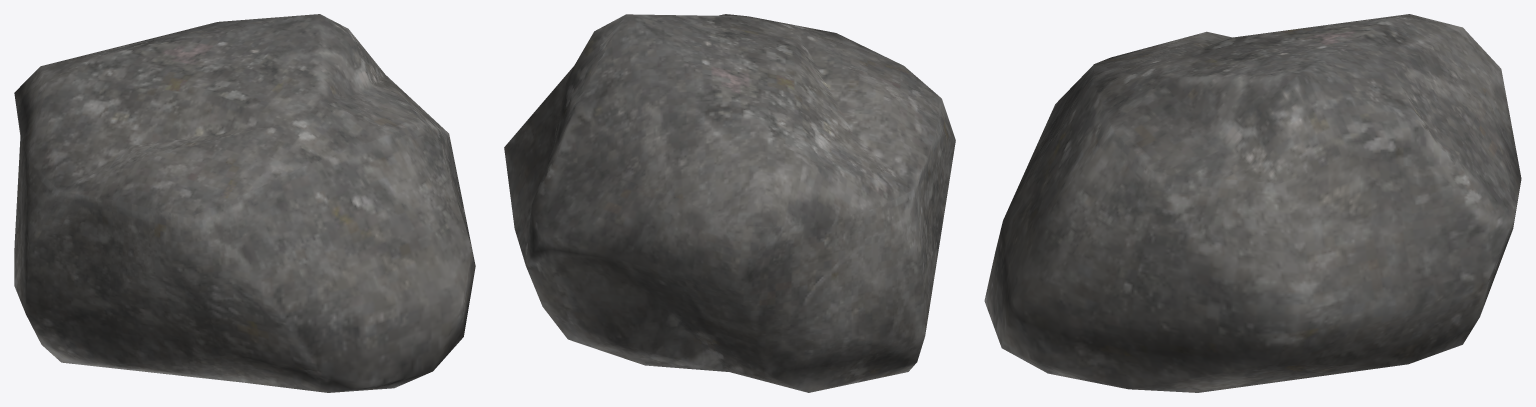
The model's file is objects_un_a_w23rock01_03_l2.gltf.
3 renders of one model, left to right at view 1: azimuth 30°, elevation 25°; view 2: azimuth 150°, elevation 25°; view 3: azimuth 270°, elevation 25°, orthographic. The views are drawn at different scales.
Visible parts, largest first — view 1: um_objects_un_a_w23rock01_03_l2_model_lod0Shape:objects_un_a; view 2: um_objects_un_a_w23rock01_03_l2_model_lod0Shape:objects_un_a; view 3: um_objects_un_a_w23rock01_03_l2_model_lod0Shape:objects_un_a.
Part boxes in pixels (box(x1,y1,x2,y2)): um_objects_un_a_w23rock01_03_l2_model_lod0Shape:objects_un_a: box(14, 14, 475, 392); um_objects_un_a_w23rock01_03_l2_model_lod0Shape:objects_un_a: box(504, 14, 955, 392); um_objects_un_a_w23rock01_03_l2_model_lod0Shape:objects_un_a: box(984, 14, 1521, 392).
Size of what is drawn, in the model's own units: 2.71 by 1.81 by 2.83.
2 materials, 1 textured.
